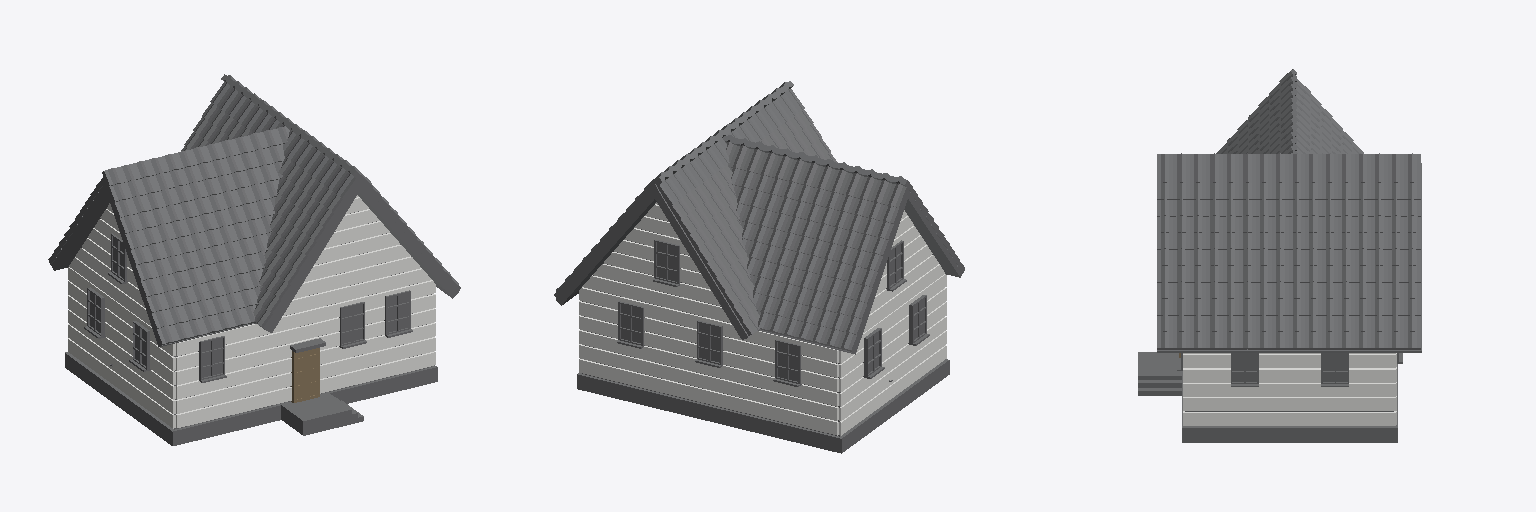
3 renders of one model, left to right at view 1: azimuth 30°, elevation 25°; view 2: azimuth 150°, elevation 25°; view 3: azimuth 270°, elevation 25°, orthographic.
Visible parts, largest first — view 1: House2_Plane.015; view 2: House2_Plane.015; view 3: House2_Plane.015.
Boxes of the visible parts, box(x1,y1,x2,y2) form: House2_Plane.015: box(48, 74, 460, 445); House2_Plane.015: box(554, 81, 964, 453); House2_Plane.015: box(1138, 69, 1421, 442).
Bounding box in the file's own units: 3.64 × 2.93 × 3.08.
1 materials, 1 textured.